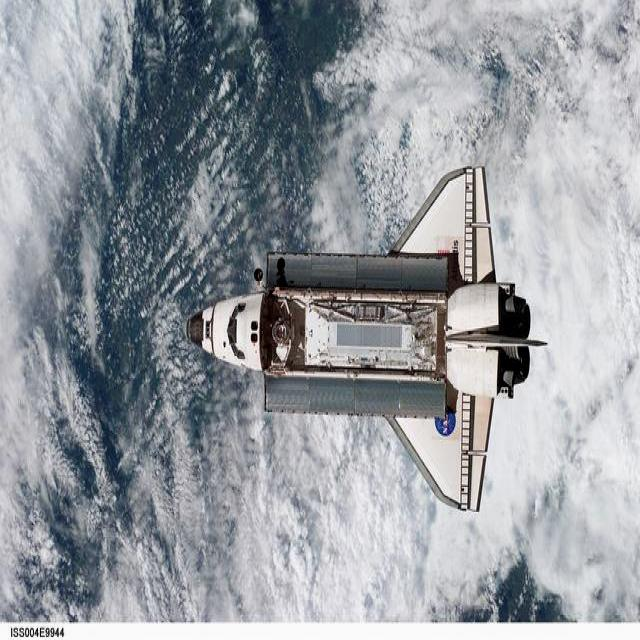satellite: (186, 167, 544, 510)
